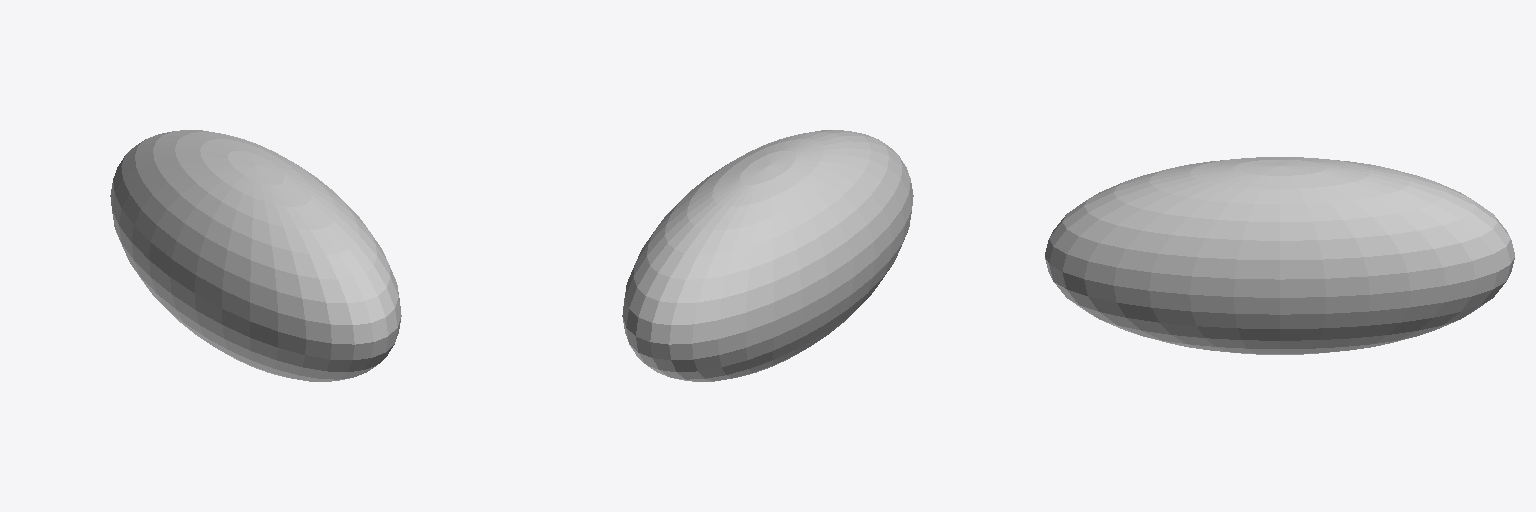
File: cloud_sphere.obj
3 views of the same model, side by side, from view 1: azimuth 30°, elevation 25°; view 2: azimuth 150°, elevation 25°; view 3: azimuth 270°, elevation 25° (orthographic).
Parts seen in each view (by area): view 1: Sphere_Sphere.001; view 2: Sphere_Sphere.001; view 3: Sphere_Sphere.001.
Part boxes in pixels (x1,y1,x2,y2): Sphere_Sphere.001: (110, 130, 401, 381); Sphere_Sphere.001: (622, 130, 913, 381); Sphere_Sphere.001: (1045, 157, 1514, 354).
Bounding box in the file's own units: 0.843 × 0.843 × 2.